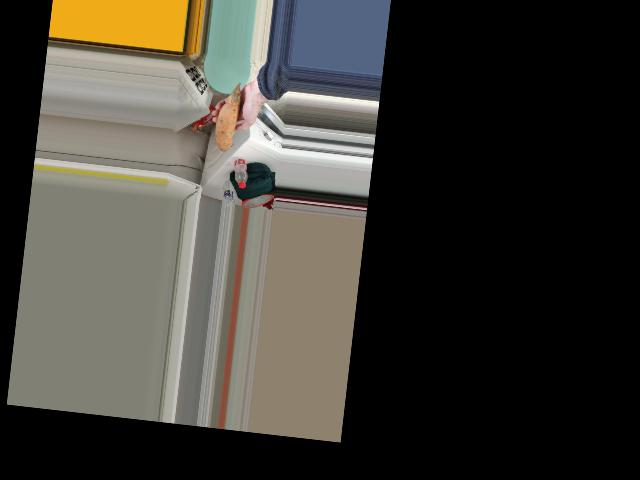sweet_potato: (211, 90, 241, 151)
